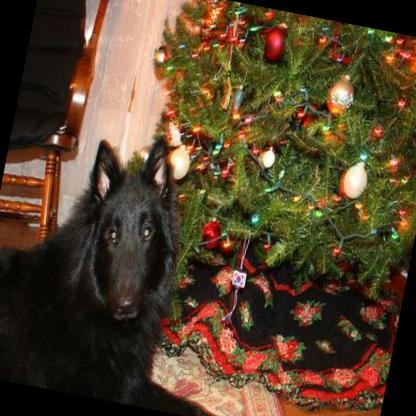groenendael: (0, 104, 305, 416)
